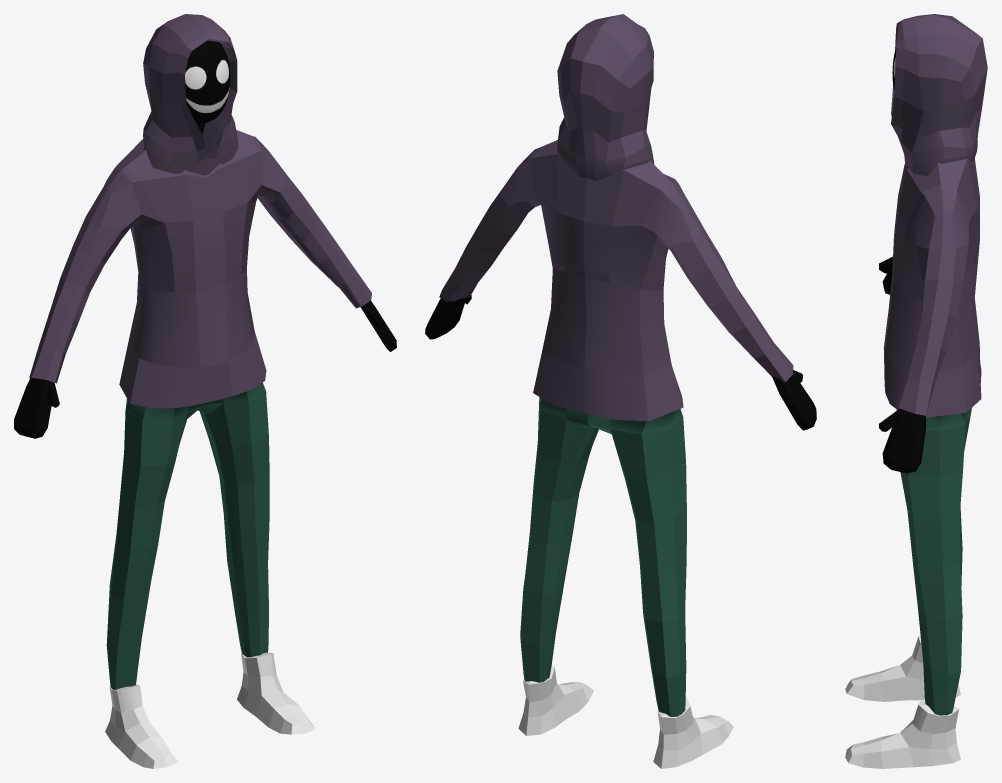
The model's file is OzTurnedIntoSet.fbx.
3 views of the same model, side by side, from view 1: azimuth 30°, elevation 25°; view 2: azimuth 150°, elevation 25°; view 3: azimuth 270°, elevation 25° (orthographic). The views are drawn at different scales.
Visible parts, largest first — view 1: head; view 2: head; view 3: head.
Boxes of the visible parts, bbox=[...] form: head: bbox=[14, 14, 396, 768]; head: bbox=[425, 14, 816, 768]; head: bbox=[845, 14, 987, 768].
Bounding box in the file's own units: 1.94 × 3.48 × 0.6306.
